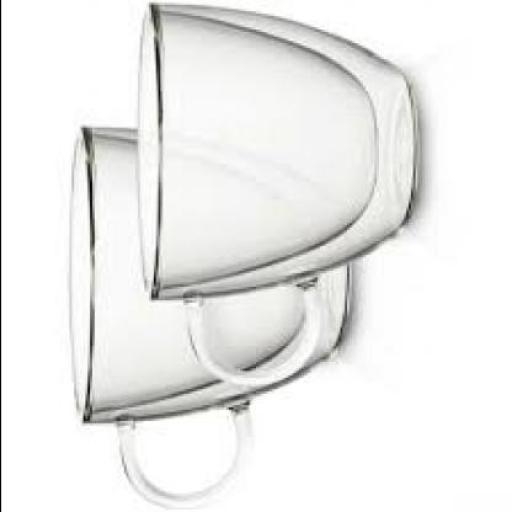glass: (66, 123, 346, 507), (138, 2, 416, 386)
